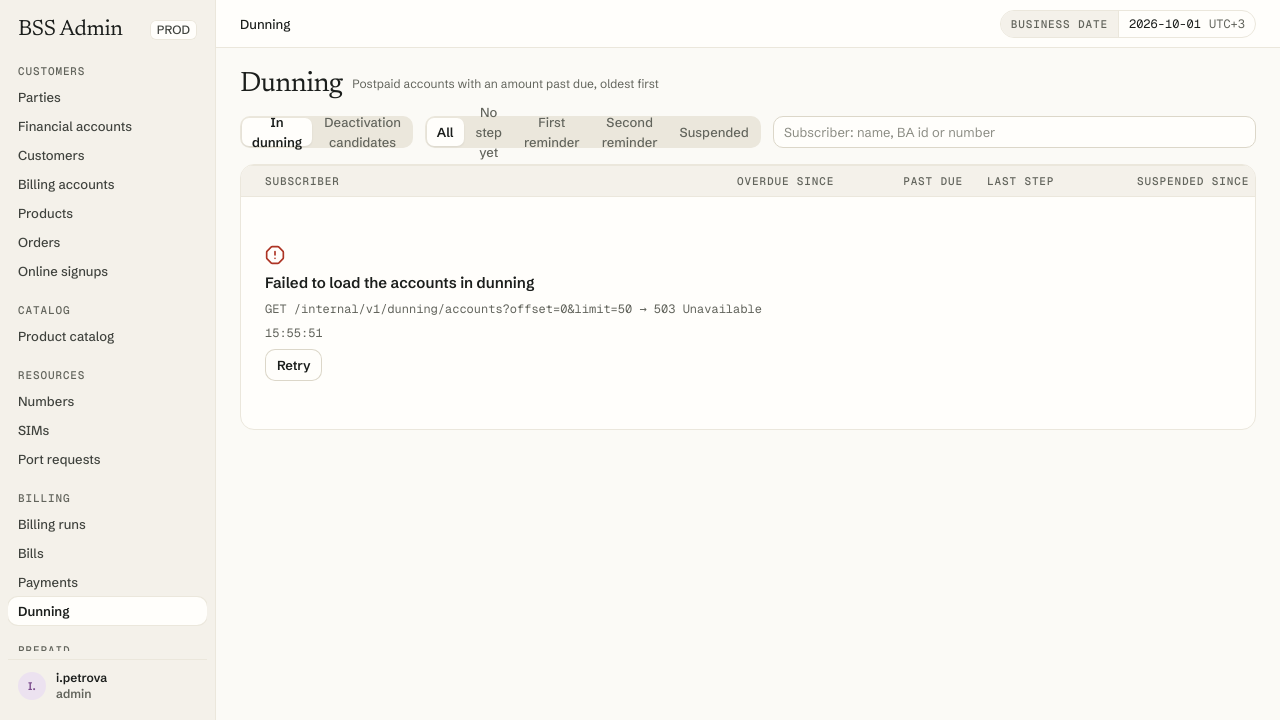
Test case: dunning screen › shows the empty state and retries a failed read
Check: the heading "Dunning" is shown, box [240,68,342,100]
Click the button "Retry".
click(294, 365)  # box [265,349,322,381]
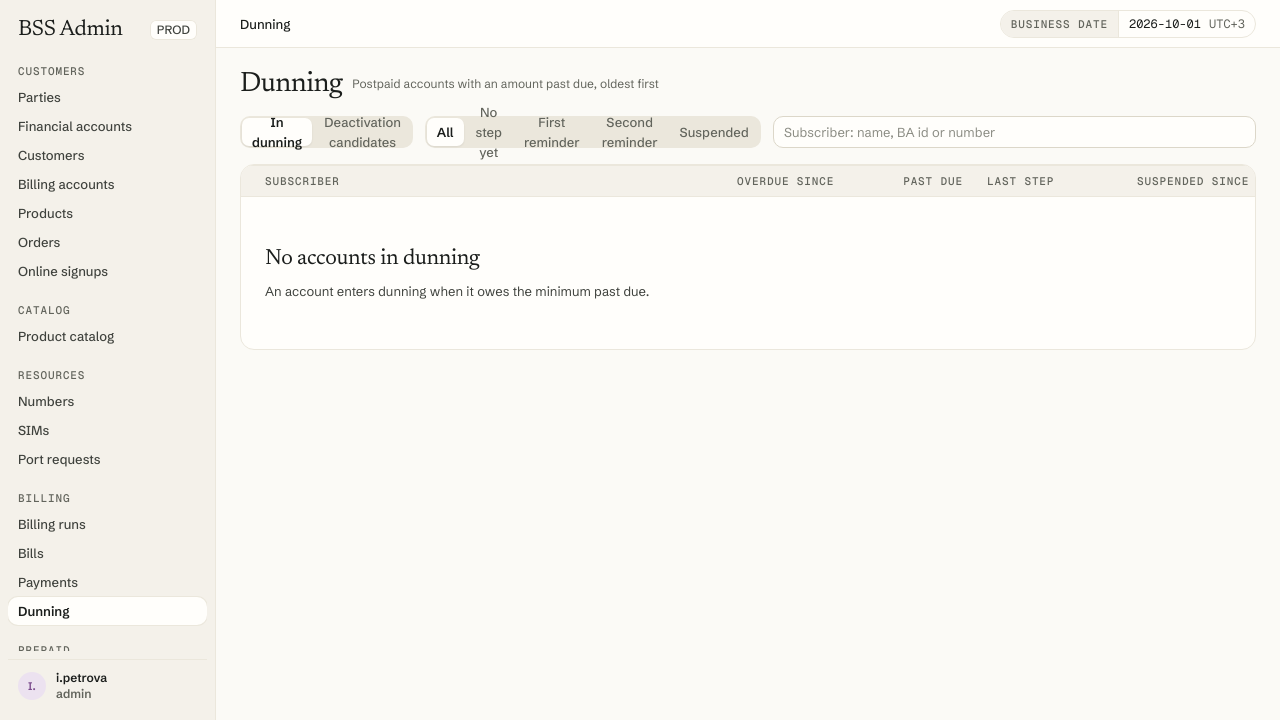
Check: the text "No accounts in dunning" is shown, box [265,245,480,273]
